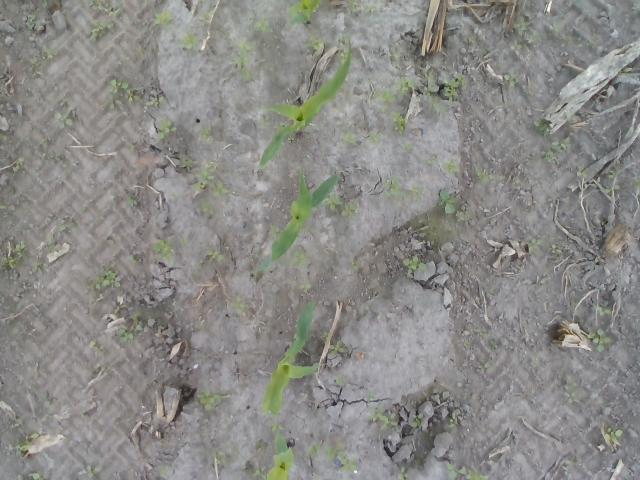Maize: (254, 44, 352, 170), (256, 170, 340, 273), (265, 299, 321, 421), (262, 431, 294, 480)
Weeds: (368, 76, 416, 114), (424, 70, 464, 113), (193, 160, 232, 198), (510, 15, 541, 51), (229, 38, 254, 82), (367, 391, 398, 426), (1, 234, 28, 274), (384, 176, 424, 202), (108, 78, 140, 110), (322, 192, 361, 218), (86, 266, 122, 289), (328, 447, 358, 473), (446, 462, 488, 480), (587, 328, 615, 352), (401, 254, 427, 279), (151, 8, 176, 32), (15, 431, 38, 457), (152, 240, 176, 264), (437, 189, 459, 215), (543, 141, 573, 160), (534, 112, 552, 138), (174, 30, 200, 48), (197, 390, 221, 409), (77, 462, 102, 480), (390, 110, 407, 136), (32, 47, 56, 65), (474, 166, 497, 184), (288, 249, 310, 267), (90, 22, 112, 40), (130, 309, 145, 335), (158, 119, 177, 139), (199, 250, 224, 265), (564, 375, 577, 403), (498, 72, 520, 88), (116, 325, 134, 344), (444, 159, 462, 177), (230, 300, 248, 318), (527, 237, 544, 255), (56, 112, 74, 128), (339, 130, 358, 145), (592, 302, 612, 316), (606, 426, 623, 442), (268, 223, 282, 242), (144, 96, 166, 108), (306, 36, 328, 48), (199, 198, 215, 214), (306, 441, 322, 457), (56, 222, 80, 232), (254, 20, 272, 33), (200, 128, 214, 144), (367, 130, 382, 144), (336, 31, 352, 44), (46, 243, 63, 255), (197, 10, 211, 24), (576, 166, 592, 178), (346, 0, 358, 16), (548, 242, 562, 255), (26, 15, 36, 32), (362, 2, 376, 14), (254, 466, 266, 480), (128, 192, 138, 208), (398, 464, 408, 480), (303, 280, 316, 292), (213, 450, 224, 464), (15, 158, 24, 175), (602, 182, 614, 194), (337, 46, 346, 62), (30, 260, 42, 272), (330, 343, 346, 352), (158, 464, 168, 478), (412, 414, 422, 428), (88, 0, 103, 9), (181, 158, 194, 168), (352, 258, 361, 272), (400, 144, 414, 153), (28, 471, 42, 480), (390, 48, 400, 60), (550, 22, 560, 33), (606, 168, 618, 177), (478, 360, 488, 370), (335, 374, 345, 384), (256, 442, 268, 450), (0, 130, 8, 142), (1, 204, 14, 210), (447, 418, 455, 427), (41, 0, 49, 9), (563, 36, 572, 44), (481, 288, 495, 293), (478, 331, 488, 337), (321, 330, 328, 338), (634, 179, 640, 188)
